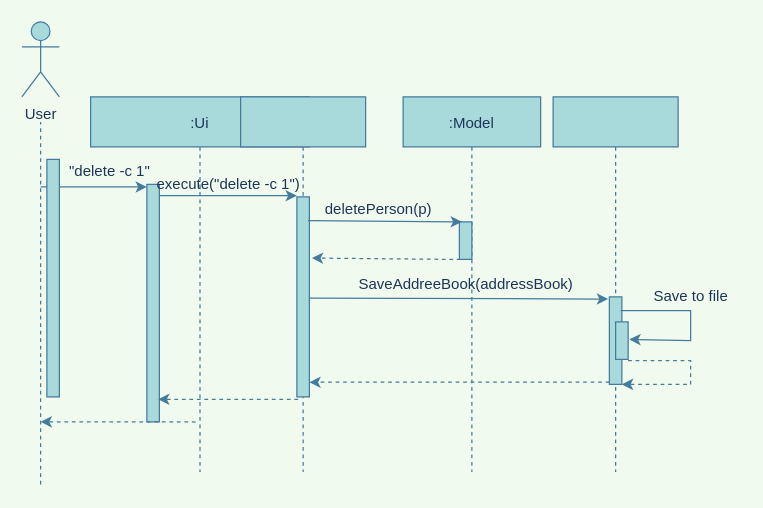
This 763x508 diagram has some shape labels left out. The box of each missing label's shape, as (x1, y1, x2, y2) in pixels:
:Logic: (239, 96, 366, 472)
:Object: (552, 96, 678, 472)
